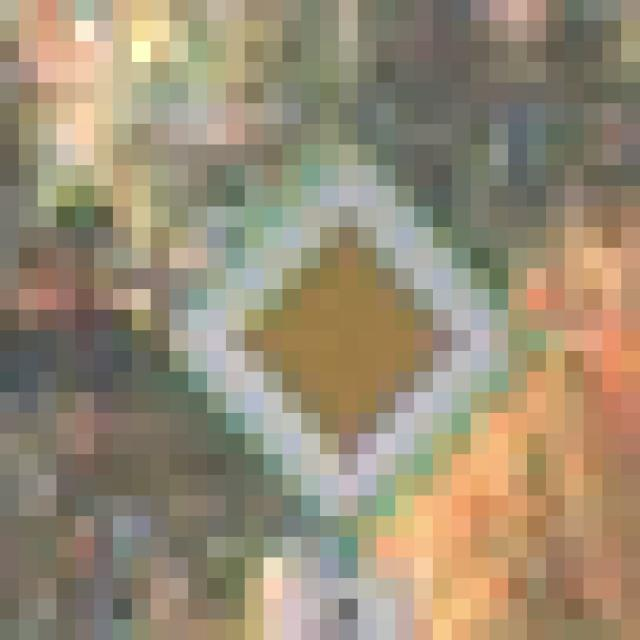Main Road: (114, 125, 528, 517)
